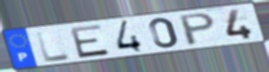0: (148, 17, 180, 49)
4: (113, 19, 146, 54), (225, 8, 255, 40)
E: (68, 23, 112, 60)
L: (33, 29, 73, 64)
P: (178, 11, 218, 48)
